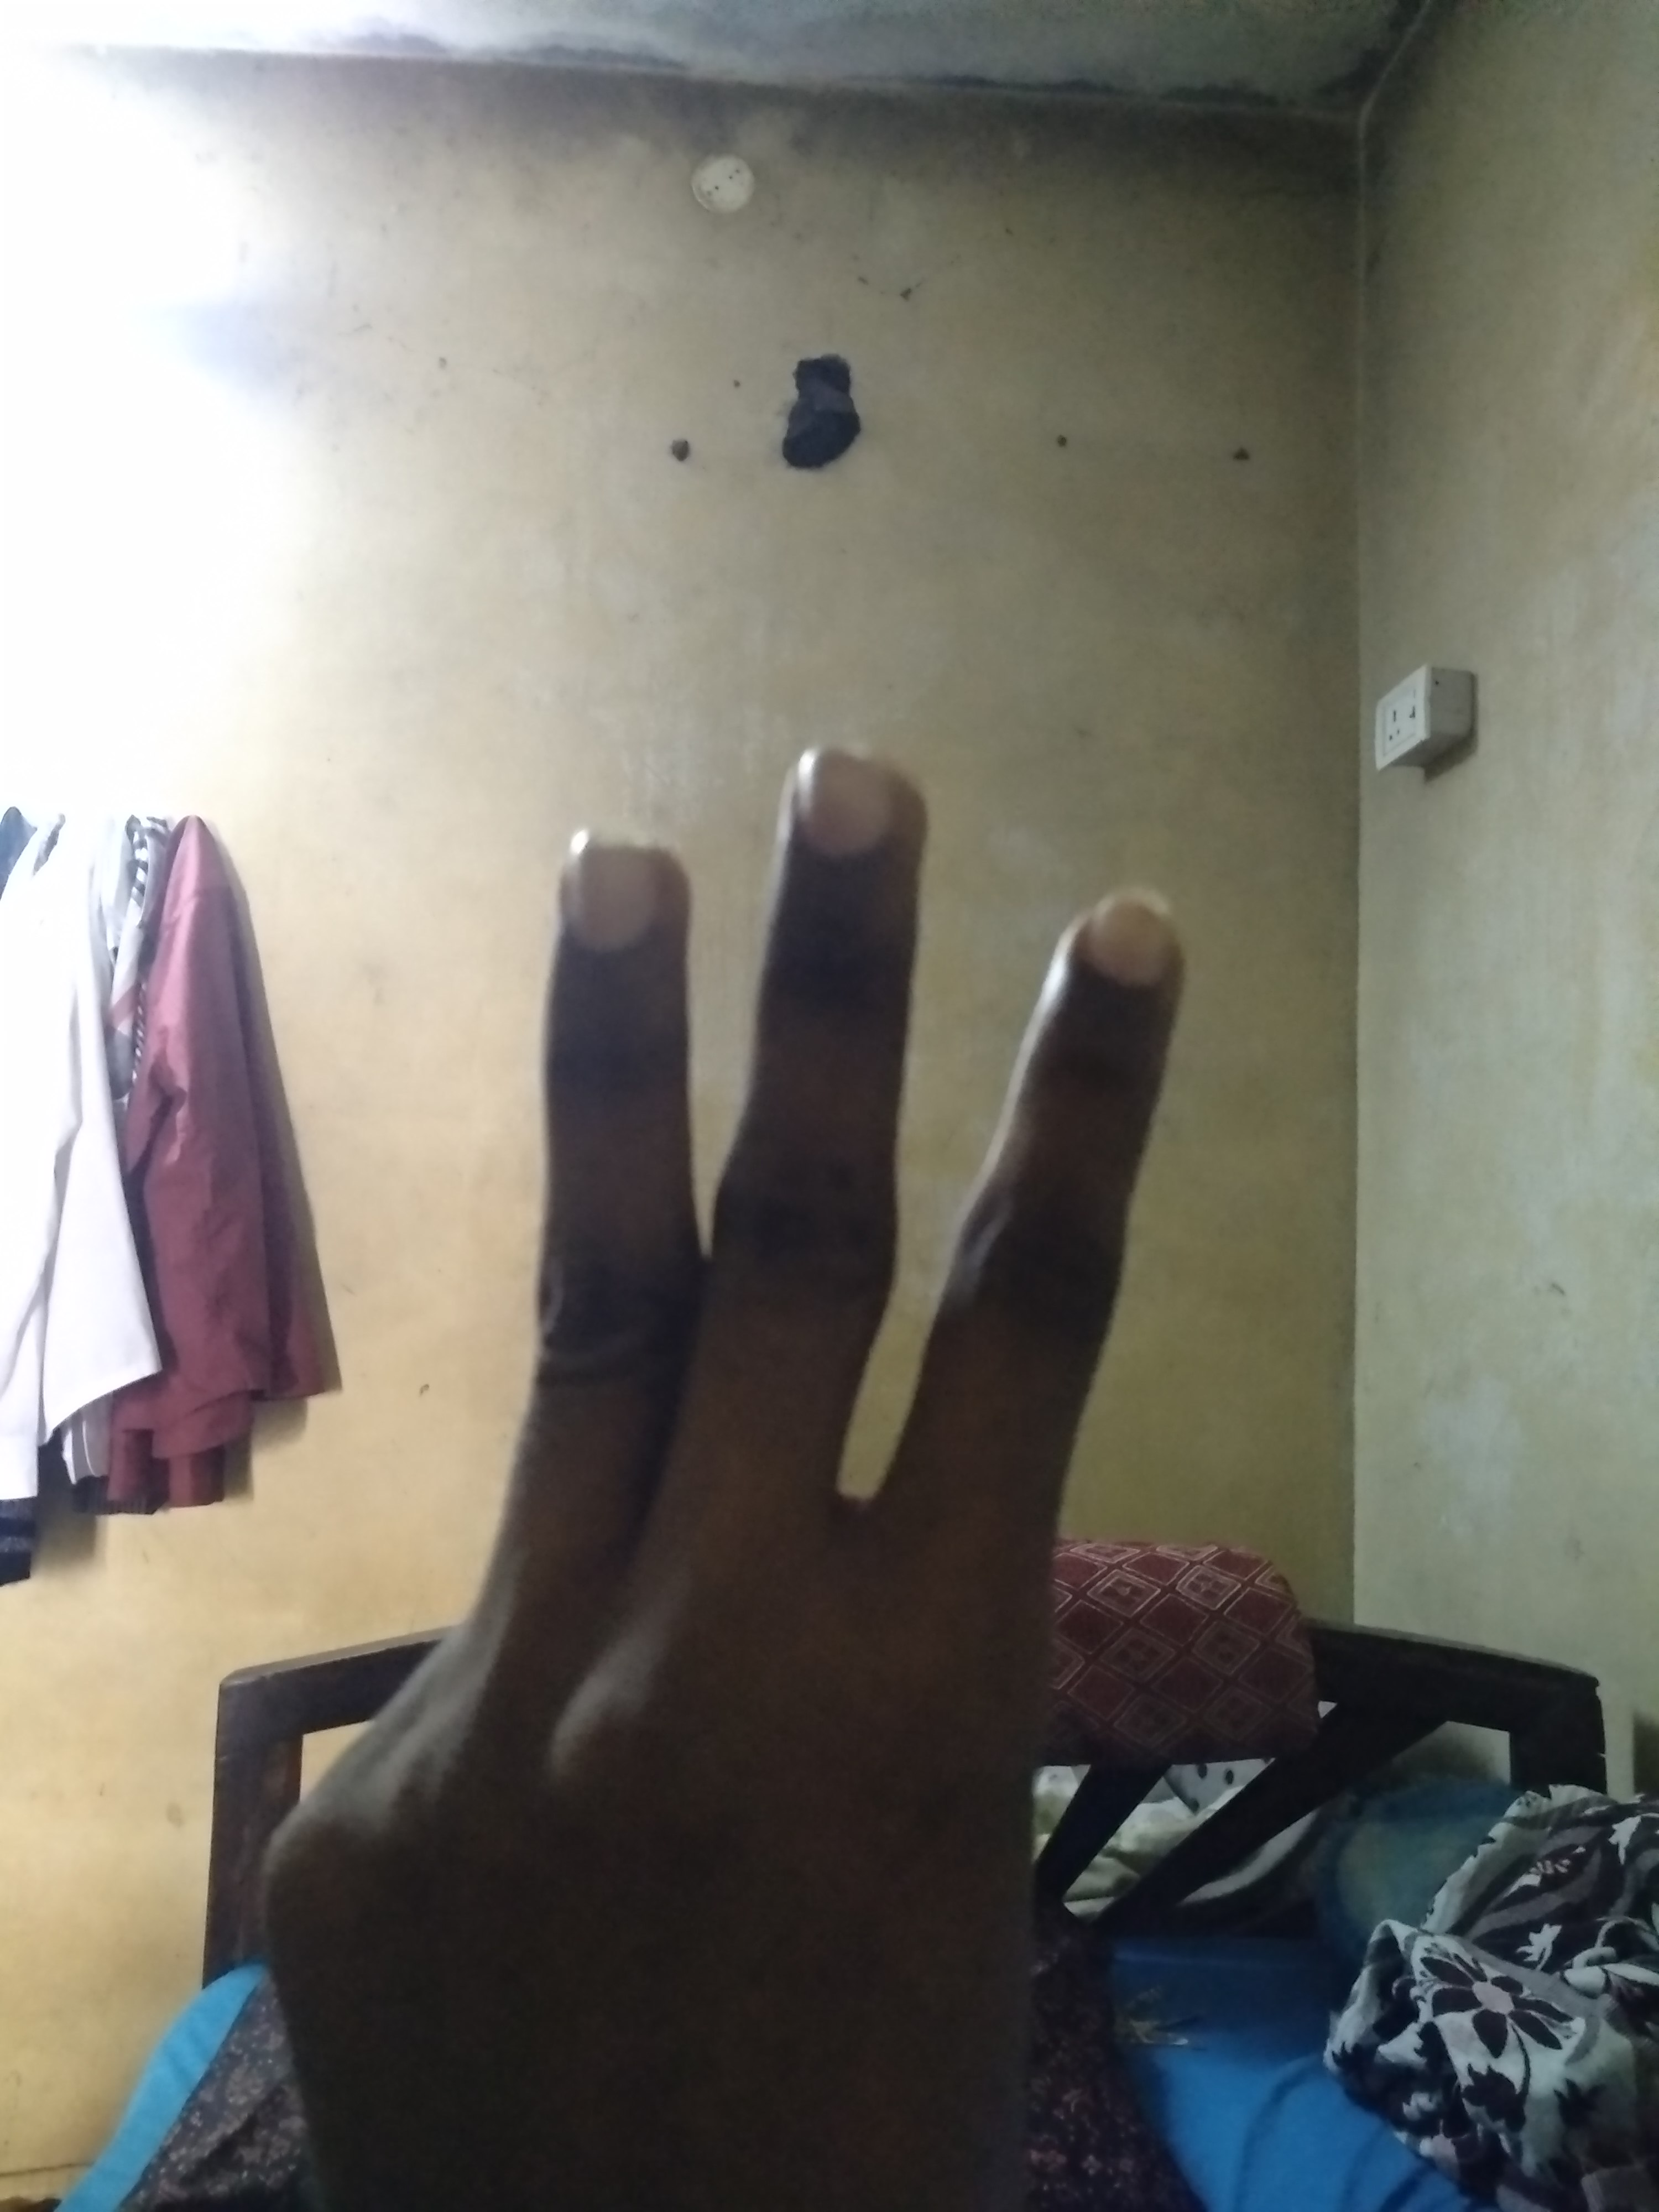three: (491, 749, 706, 956)
